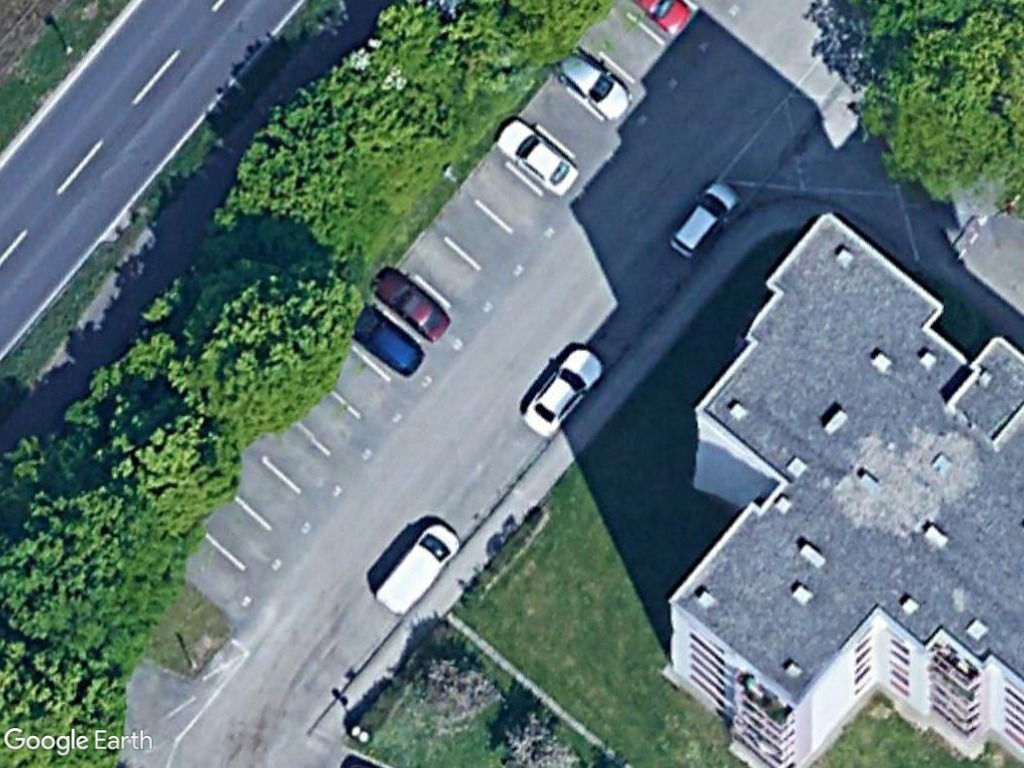car: (518, 344, 609, 440), (488, 114, 581, 199), (368, 265, 451, 344), (665, 178, 743, 262)
van: (370, 519, 464, 617)
